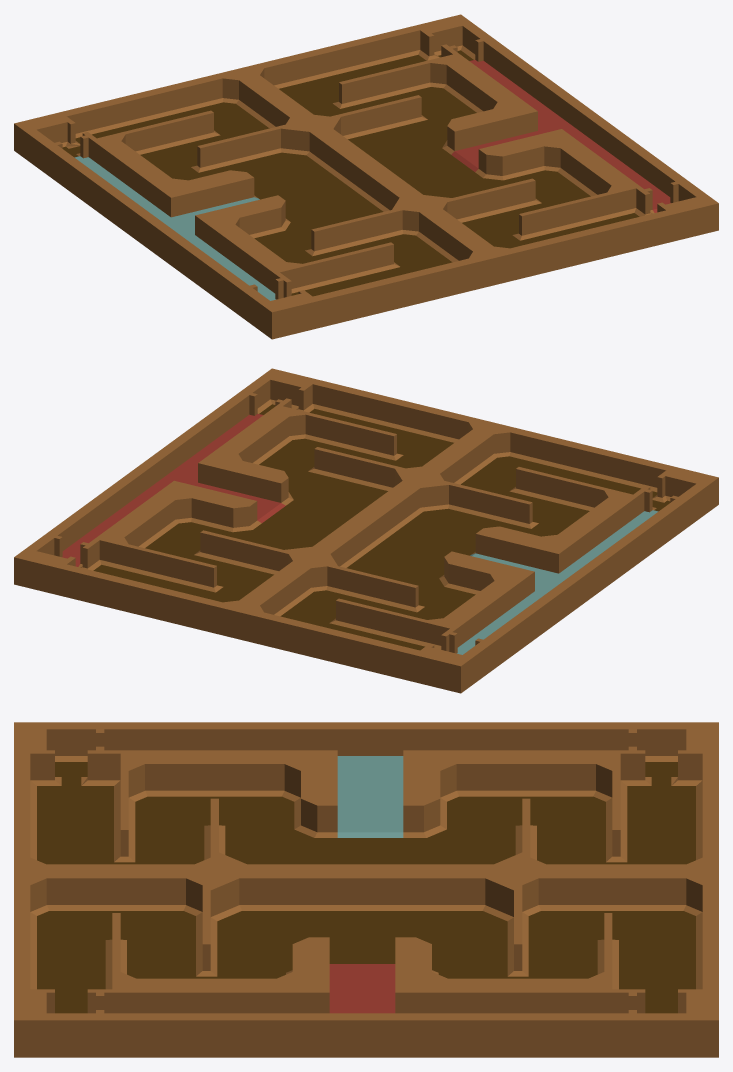
Rendered from TutorialZone V2.fbx.
3 renders of one model, top to bottom at view 1: azimuth 30°, elevation 25°; view 2: azimuth 150°, elevation 25°; view 3: azimuth 270°, elevation 25°, orthographic. The views are drawn at different scales.
Visible parts, largest first — view 1: Model; view 2: Model; view 3: Model.
Boxes of the visible parts, x1=… form: Model: x1=14, y1=14, x2=718, y2=339; Model: x1=14, y1=368, x2=718, y2=693; Model: x1=14, y1=722, x2=718, y2=1057.
Size of the model in its own units: 215 by 12.5 by 215.
